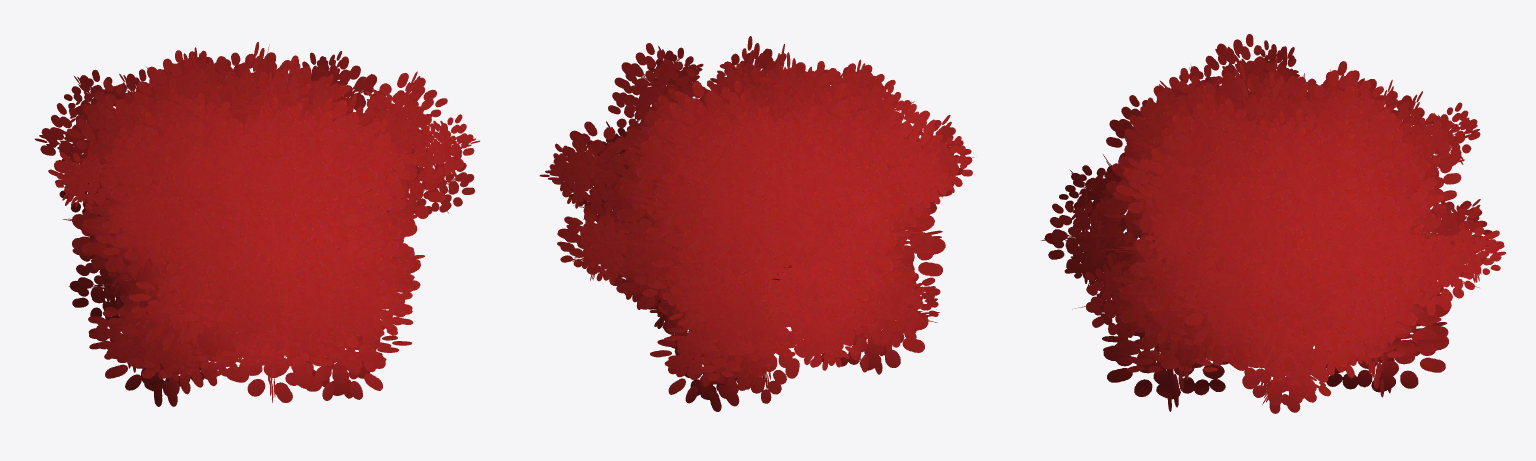
File: bush-1.glb
3 views of the same model, side by side, from view 1: azimuth 30°, elevation 25°; view 2: azimuth 150°, elevation 25°; view 3: azimuth 270°, elevation 25° (orthographic). The views are drawn at different scales.
Visible parts, largest first — view 1: Bush_Common; view 2: Bush_Common; view 3: Bush_Common.
Part boxes in pixels (x1,y1,x2,y2): Bush_Common: [34, 42, 479, 406]; Bush_Common: [539, 36, 974, 411]; Bush_Common: [1041, 34, 1505, 413].
Size of the model in its own units: 0.8474 by 0.7 by 0.8696.
1 material, 1 textured.
